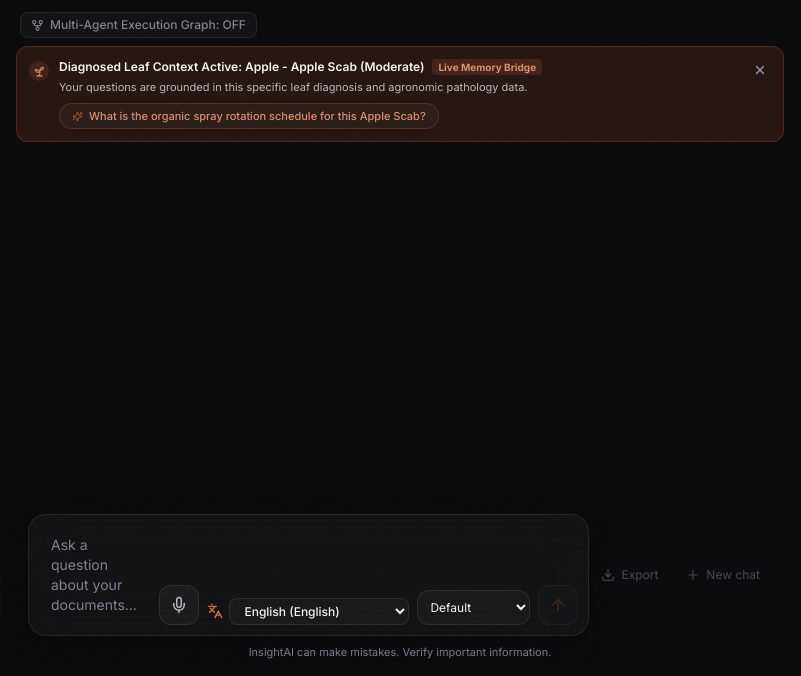
Test: Chat Page › allows user to dismiss the diagnostic context banner
The width and height of the screenshot is (801, 676).
(page scrolled)
Expected: the element with test id "diagnostic-context-banner" is shown, [16,46,784,142]
Click the button named "Dismiss diagnostic context banner". click: (760, 70)
box: [749,59,771,81]
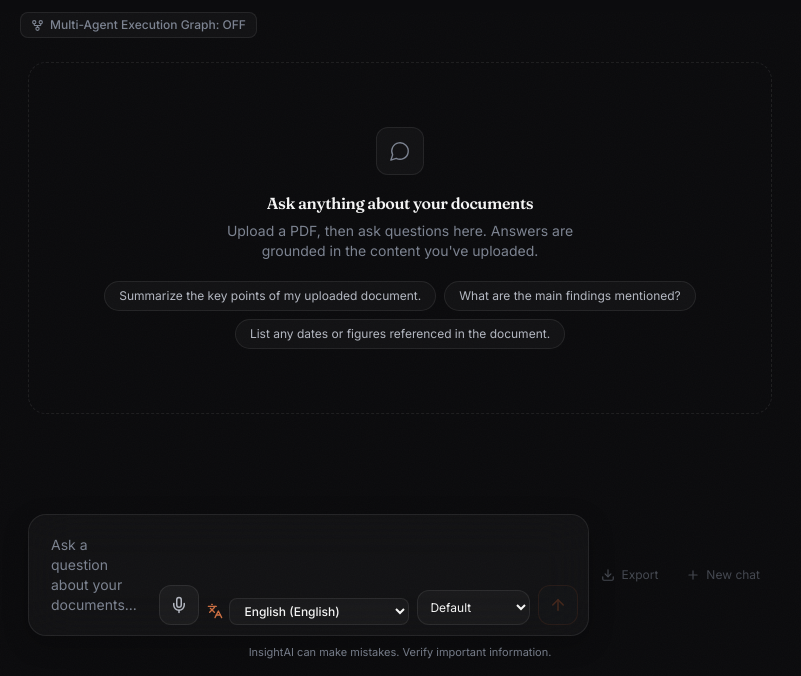
Expected: the element with test id "diagnostic-context-banner" is gone
